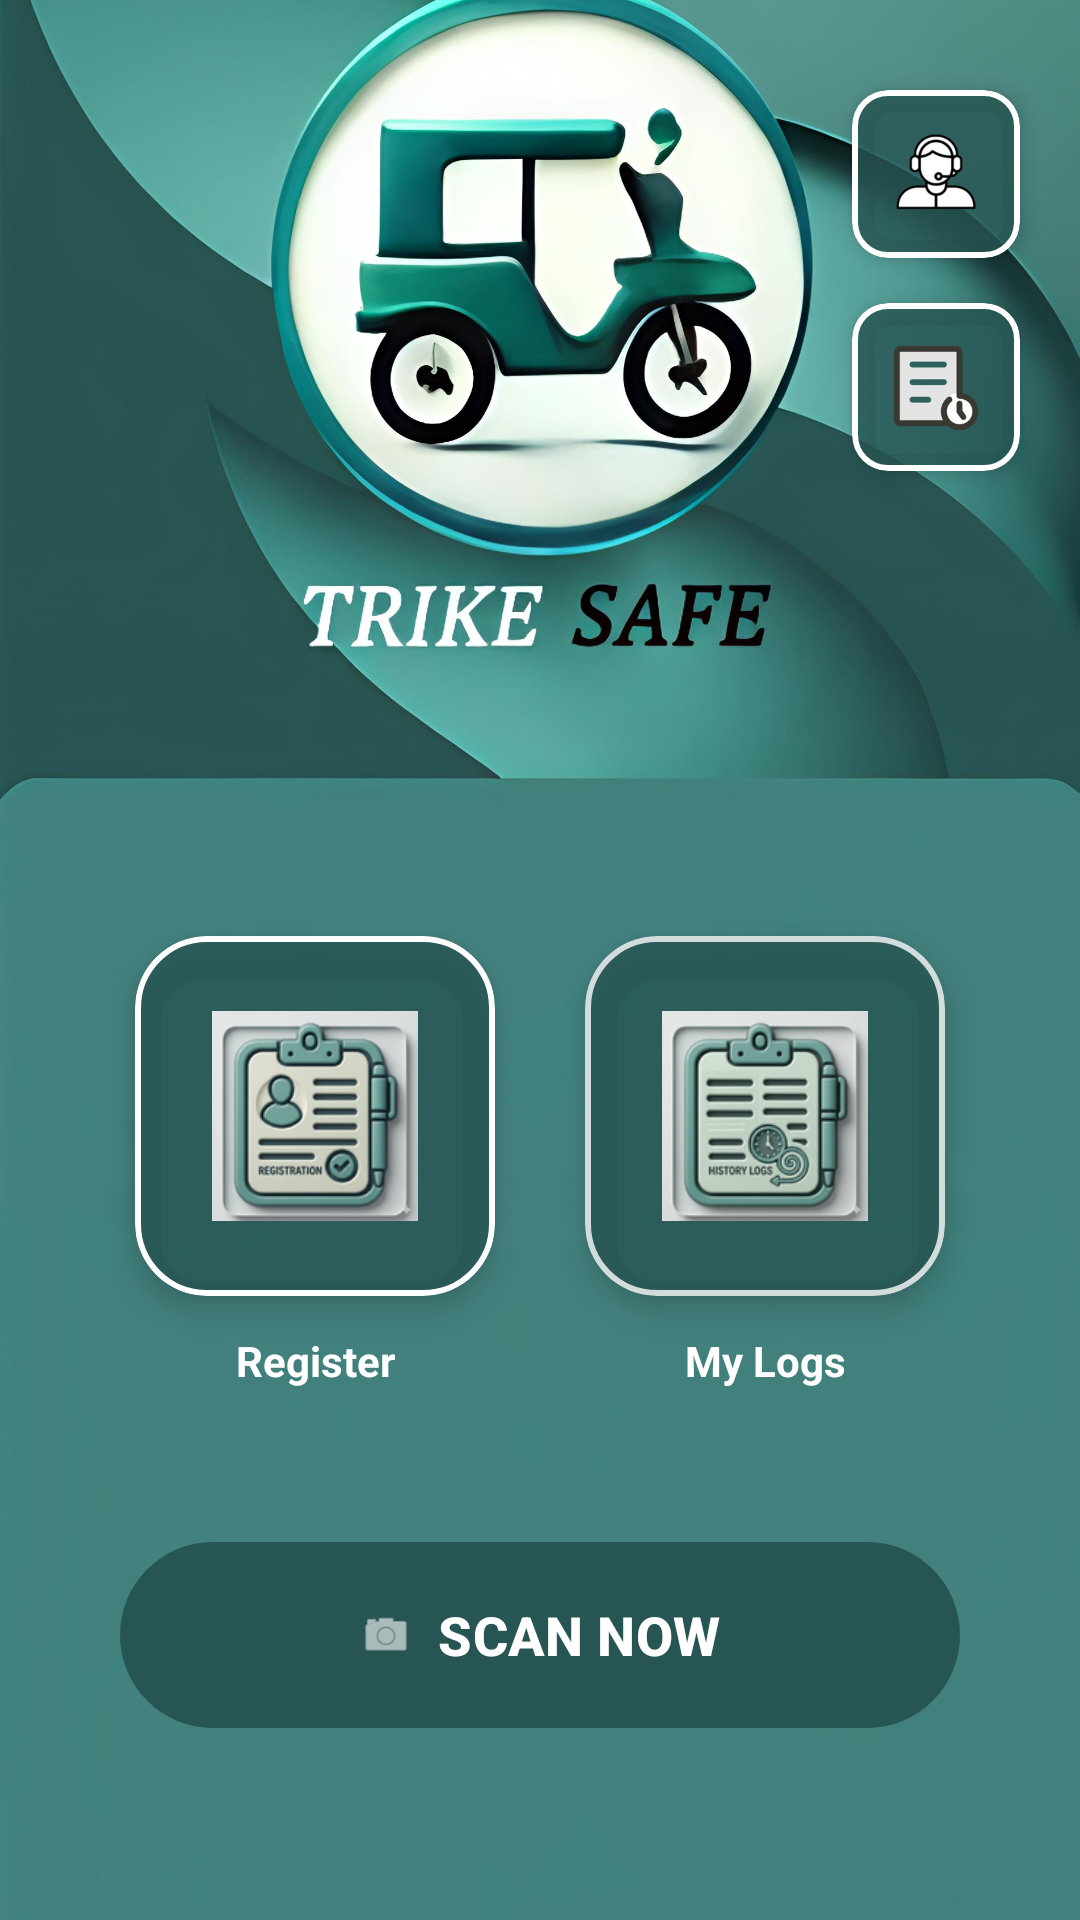

Point at icon controls on the screen. Image size 1080 x 1920, points as (x=x, y=y).
historyiconwhite: (x=936, y=387)
